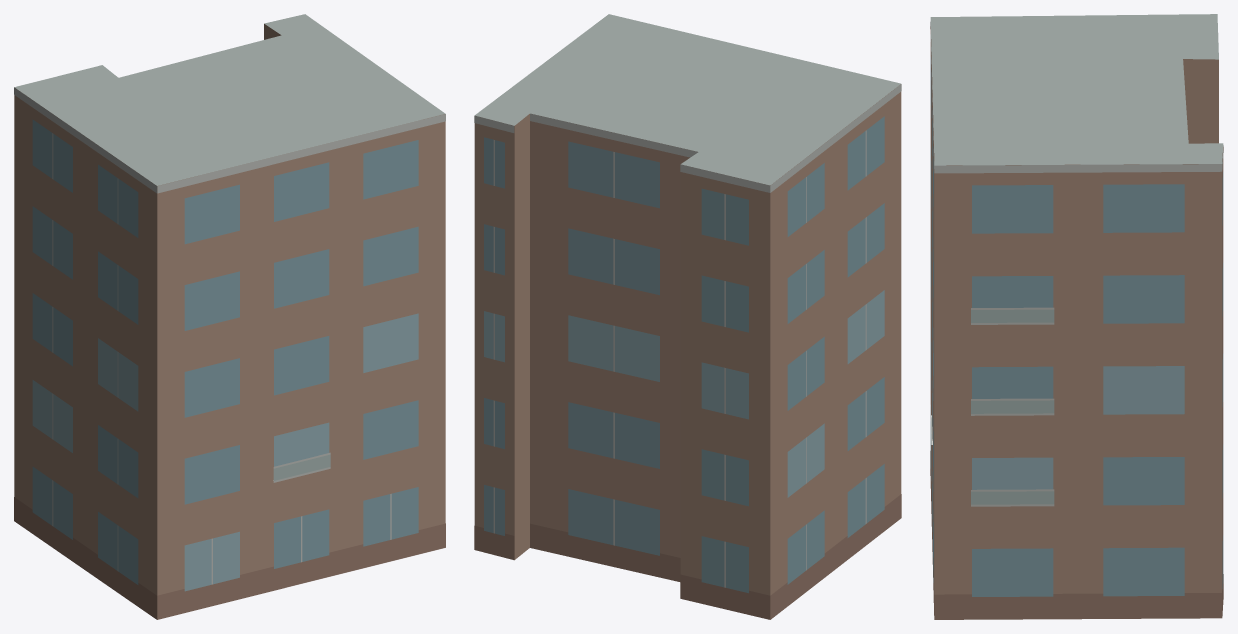
File: survey-upis-32699651.glb
3 views of the same model, side by side, from view 1: azimuth 30°, elevation 25°; view 2: azimuth 150°, elevation 25°; view 3: azimuth 270°, elevation 25° (orthographic). The views are drawn at different scales.
Visible parts, largest first — view 1: survey-upis-32699651.tmp; view 2: survey-upis-32699651.tmp; view 3: survey-upis-32699651.tmp.
Boxes of the visible parts, x1,y1,x2,y2 form: survey-upis-32699651.tmp: (14,14,445,619); survey-upis-32699651.tmp: (474,14,901,619); survey-upis-32699651.tmp: (930,14,1223,619).
Bounding box in the file's own units: 10.04 × 14 × 8.19.
